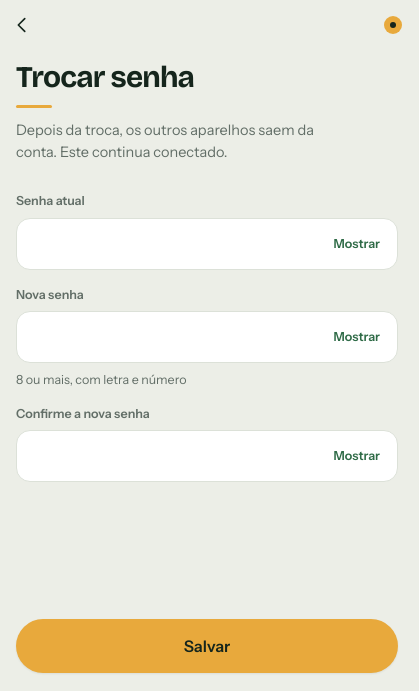
Scenario: Trocar senha › mostra "A senha atual não confere." no campo certo
Type "senha1234" into the password field labelled "Senha atual".
click(207, 244); type("senha1234")  # box [16,218,398,270]
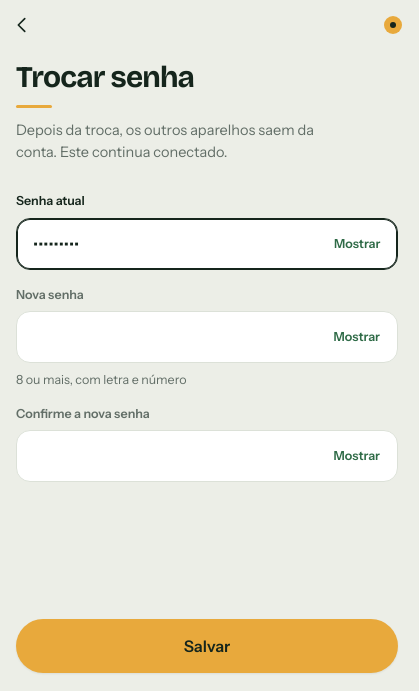
Type "novaSenha9" into the password field labelled "Nova senha".
click(207, 337); type("novaSenha9")  # box [16,311,398,363]
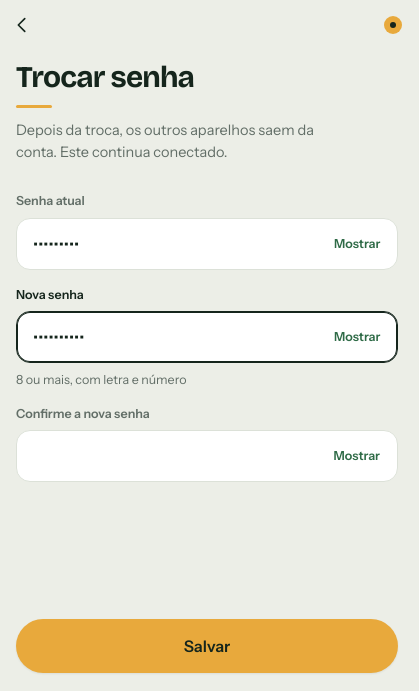
Type "novaSenha9" into the password field labelled "Confirme a nova senha".
click(207, 456); type("novaSenha9")  # box [16,430,398,482]
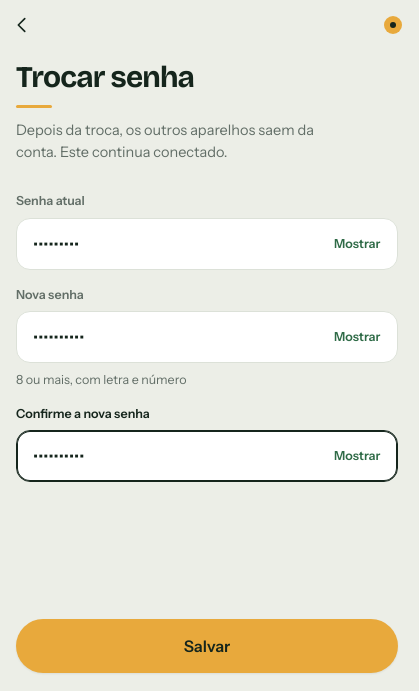
Click the button "Salvar".
click(207, 646)  # box [16,619,398,673]
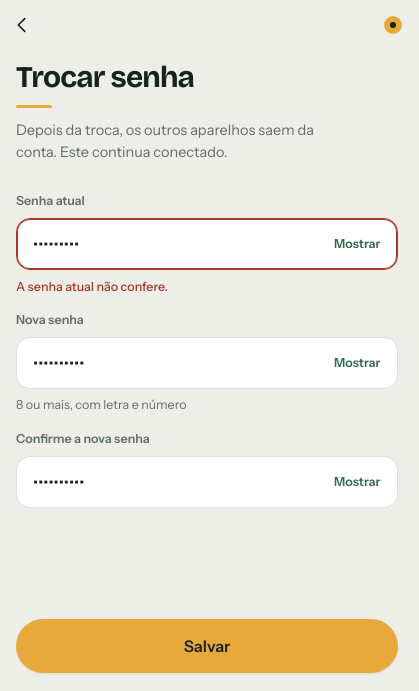
Expected: the text "A senha atual não confere." is shown, [16,279,168,294]
